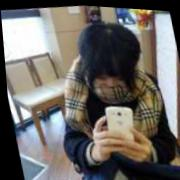WRONG: (87, 60, 135, 107)
